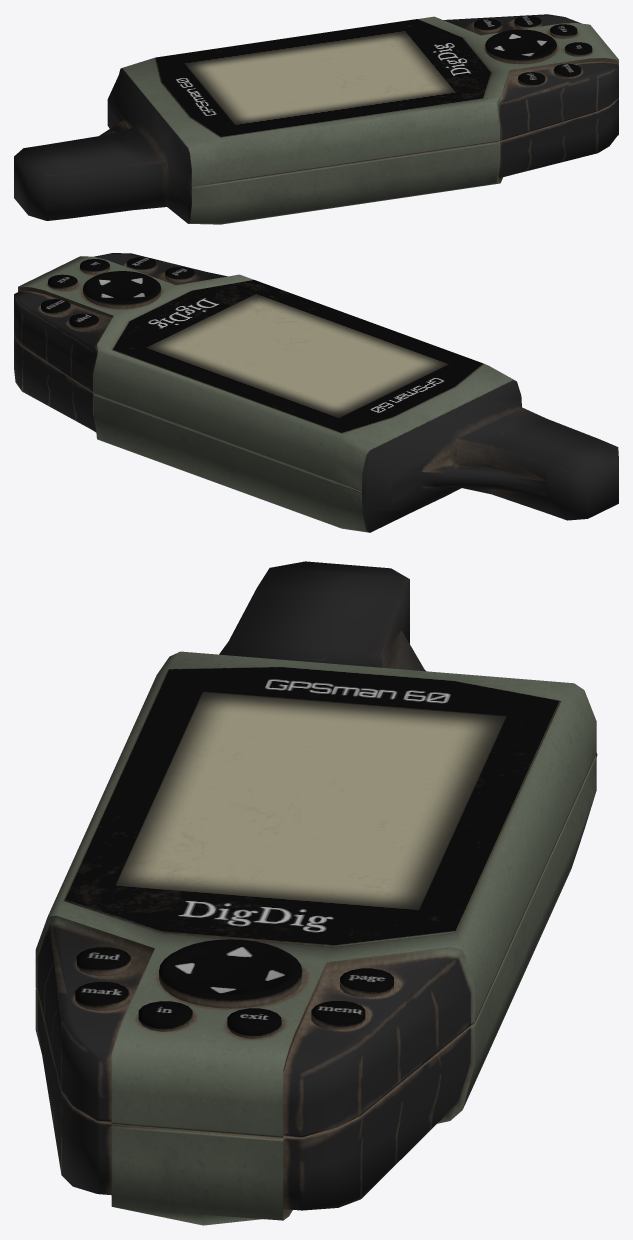
File: gps.fbx
3 renders of one model, top to bottom at view 1: azimuth 30°, elevation 25°; view 2: azimuth 150°, elevation 25°; view 3: azimuth 270°, elevation 25°, orthographic. The views are drawn at different scales.
Parts seen in each view (by area): view 1: gps; view 2: gps; view 3: gps.
Boxes of the visible parts, x1,y1,x2,y2 form: gps: (14, 14, 618, 224); gps: (14, 253, 618, 532); gps: (35, 561, 597, 1225).
Bounding box in the file's own units: 15.13 × 2.61 × 6.62.
